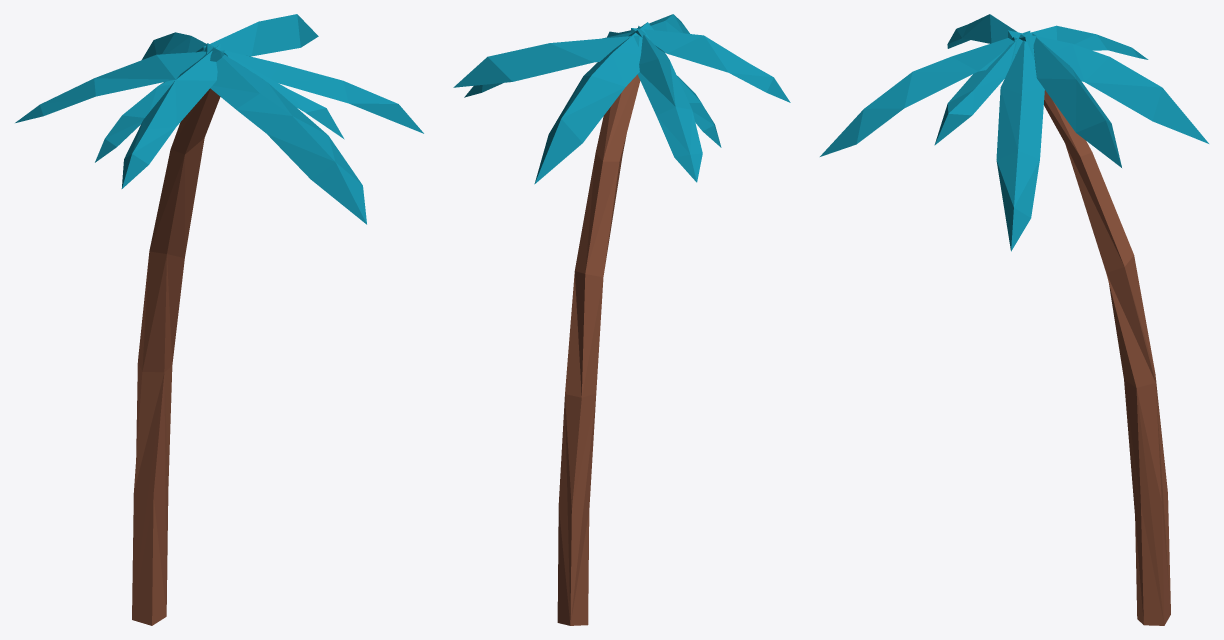
File: Tree_09_summer_blue.fbx
3 views of the same model, side by side, from view 1: azimuth 30°, elevation 25°; view 2: azimuth 150°, elevation 25°; view 3: azimuth 270°, elevation 25° (orthographic). The views are drawn at different scales.
Visible parts, largest first — view 1: Tree_09_summer_blue; view 2: Tree_09_summer_blue; view 3: Tree_09_summer_blue.
Part boxes in pixels (x1,y1,x2,y2): Tree_09_summer_blue: (15, 14, 423, 625); Tree_09_summer_blue: (453, 14, 790, 625); Tree_09_summer_blue: (820, 14, 1208, 625).
Size of the model in its own units: 128 by 228 by 137.
